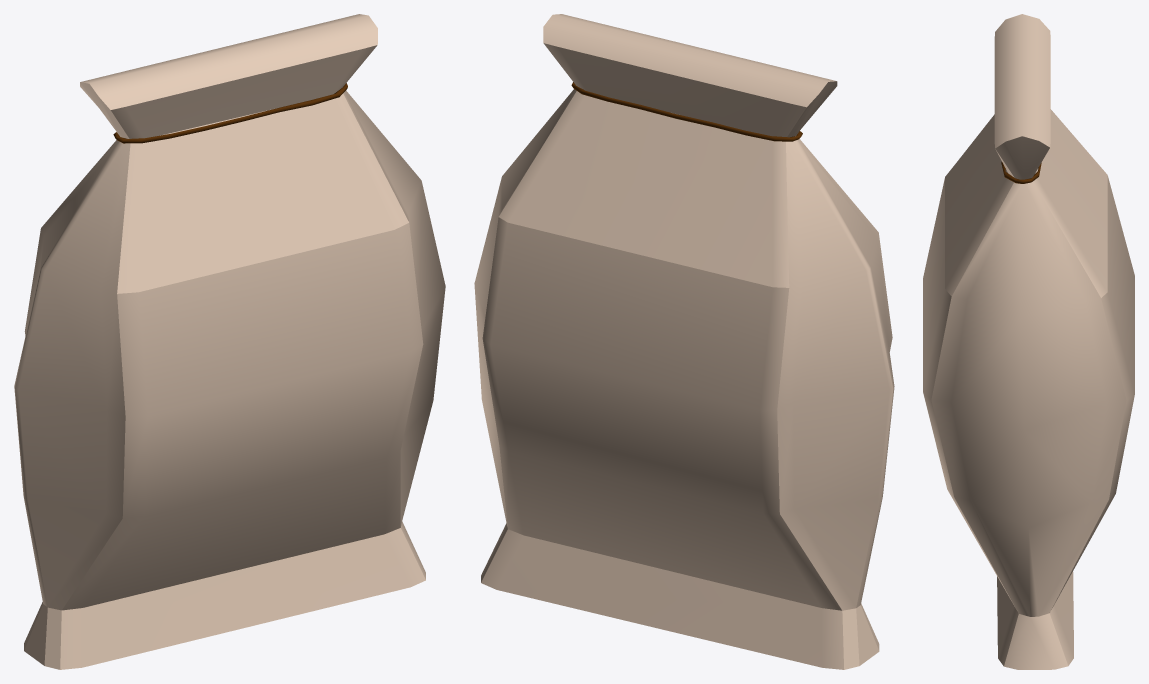
File: SacDeFarine.fbx
3 renders of one model, left to right at view 1: azimuth 30°, elevation 25°; view 2: azimuth 150°, elevation 25°; view 3: azimuth 270°, elevation 25°, orthographic. The views are drawn at different scales.
Parts seen in each view (by area): view 1: polySurface1156; view 2: polySurface1156; view 3: polySurface1156.
Boxes of the visible parts, box(x1,y1,x2,y2) form: polySurface1156: box(14, 14, 445, 669); polySurface1156: box(474, 14, 894, 669); polySurface1156: box(923, 14, 1134, 669).
Bounding box in the file's own units: 0.4894 × 0.6222 × 0.2342.
